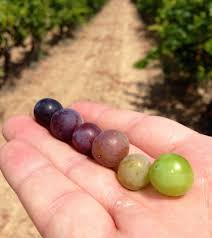Black grapes: (50, 104, 81, 143), (28, 96, 63, 127)
Green grapes: (149, 153, 194, 197), (116, 151, 153, 190)
Red Grapes: (91, 128, 128, 165), (70, 123, 101, 150)
